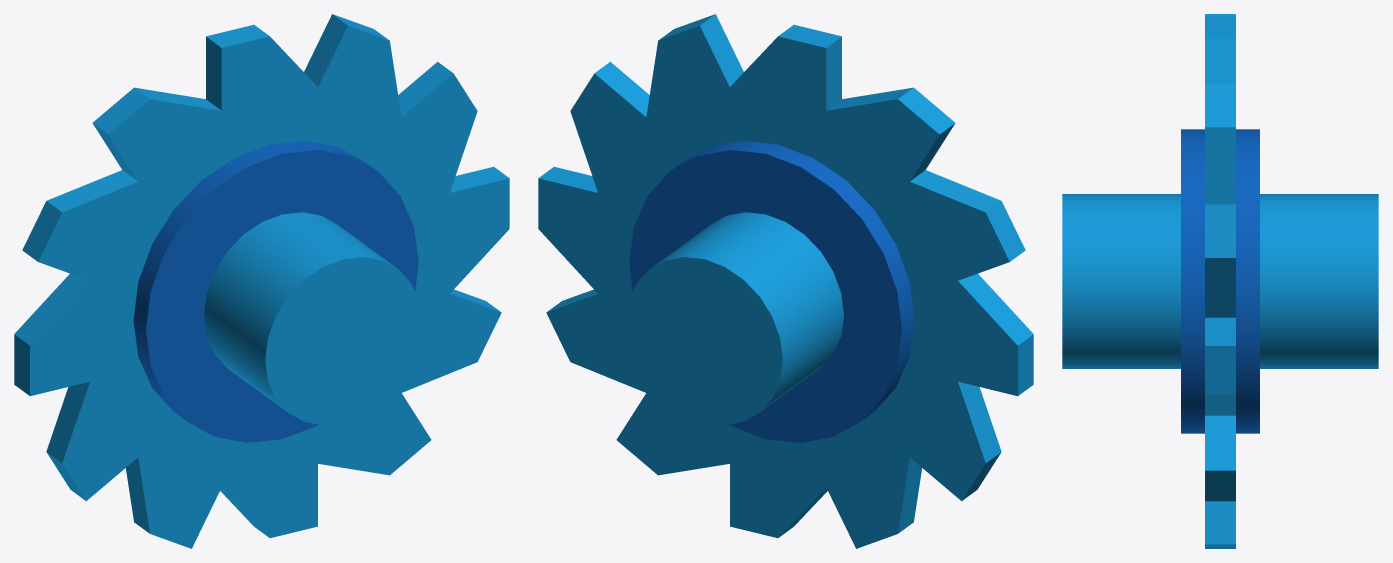
Rendered from wheel_blue.fbx.
3 renders of one model, left to right at view 1: azimuth 30°, elevation 25°; view 2: azimuth 150°, elevation 25°; view 3: azimuth 270°, elevation 25°, orthographic. The views are drawn at different scales.
Parts seen in each view (by area): view 1: wheel_blue; view 2: wheel_blue; view 3: wheel_blue.
Boxes of the visible parts, bbox=[...] form: wheel_blue: bbox=[14, 14, 509, 548]; wheel_blue: bbox=[538, 14, 1033, 548]; wheel_blue: bbox=[1062, 14, 1378, 548].
Size of the model in its own units: 0.5843 by 0.5843 by 0.3442.
